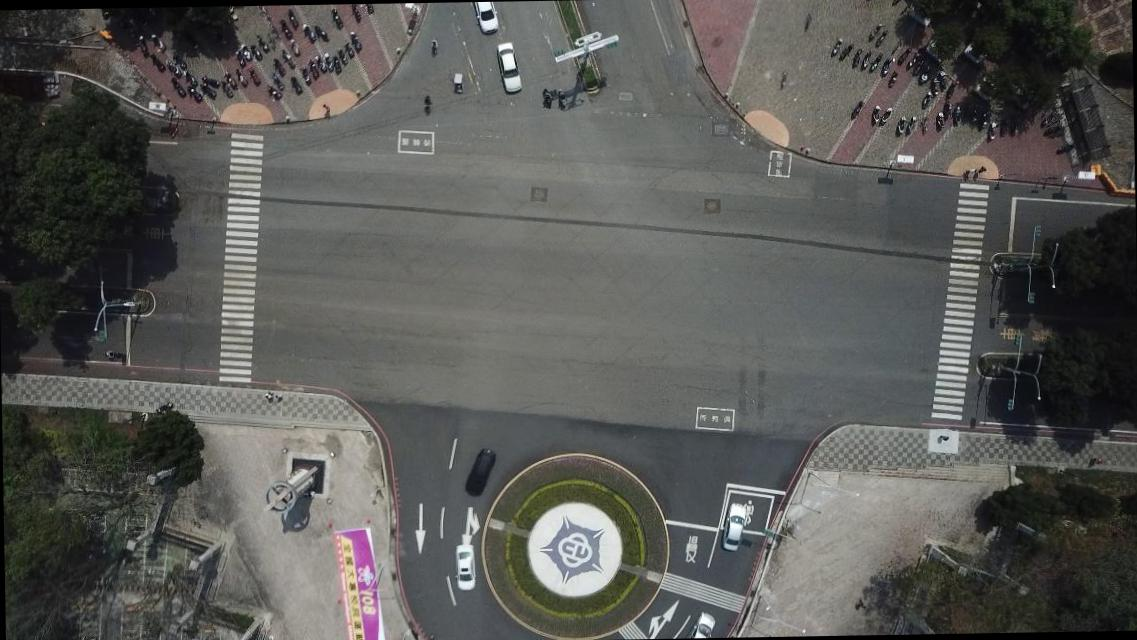vehicle: (465, 450, 495, 496), (721, 503, 747, 551), (496, 43, 521, 92), (456, 545, 476, 590), (473, 2, 498, 34), (692, 614, 716, 636)
